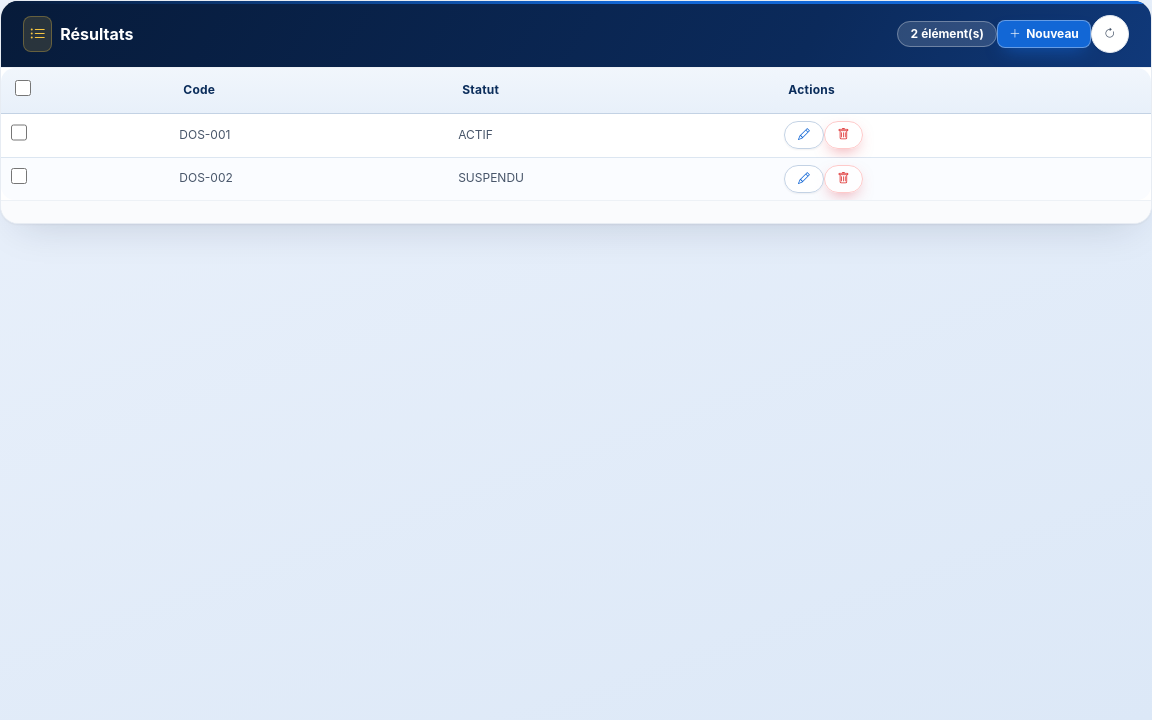
Test: gestion (CRUD) pilotée par le descripteur › un refus de dépendance (409) laisse la ligne en place et informe
The width and height of the screenshot is (1152, 720).
expect the text "DOS-001" is shown: met, box [170,114,449,158]
Step 1. Click the button named "Supprimer" in the row of "DOS-001" → click(844, 135), box [824,121,863,149]
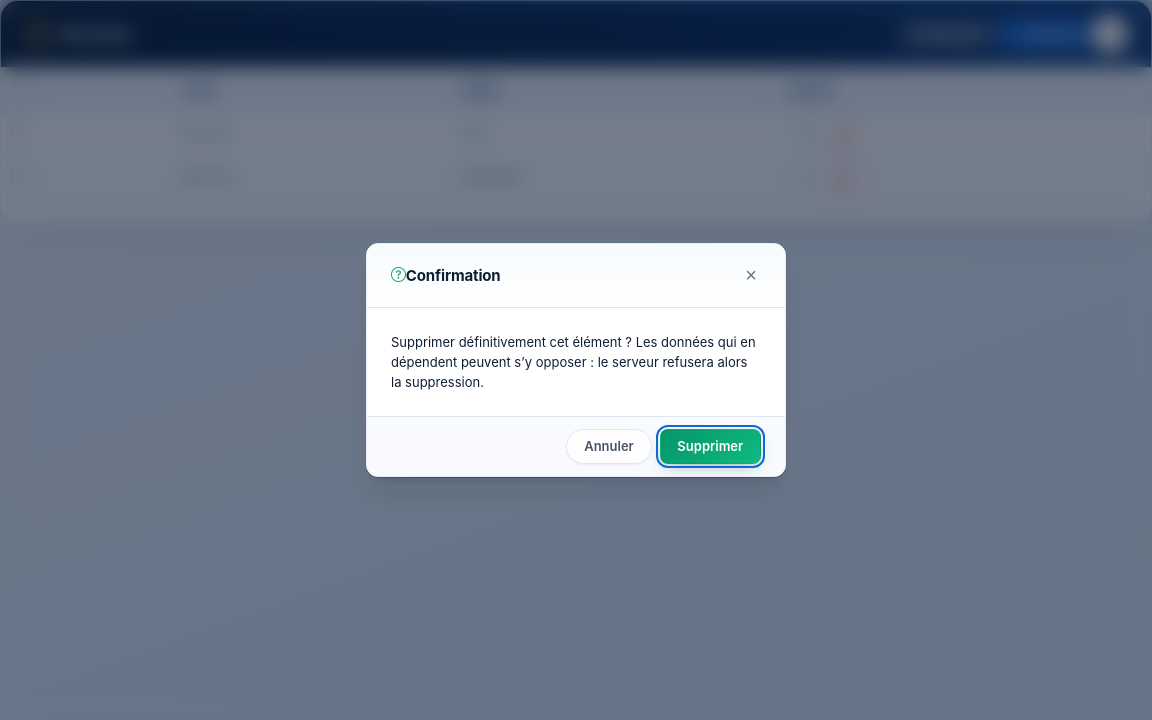
Step 2. Click the button "Supprimer" → click(710, 447), box [660,429,761,464]
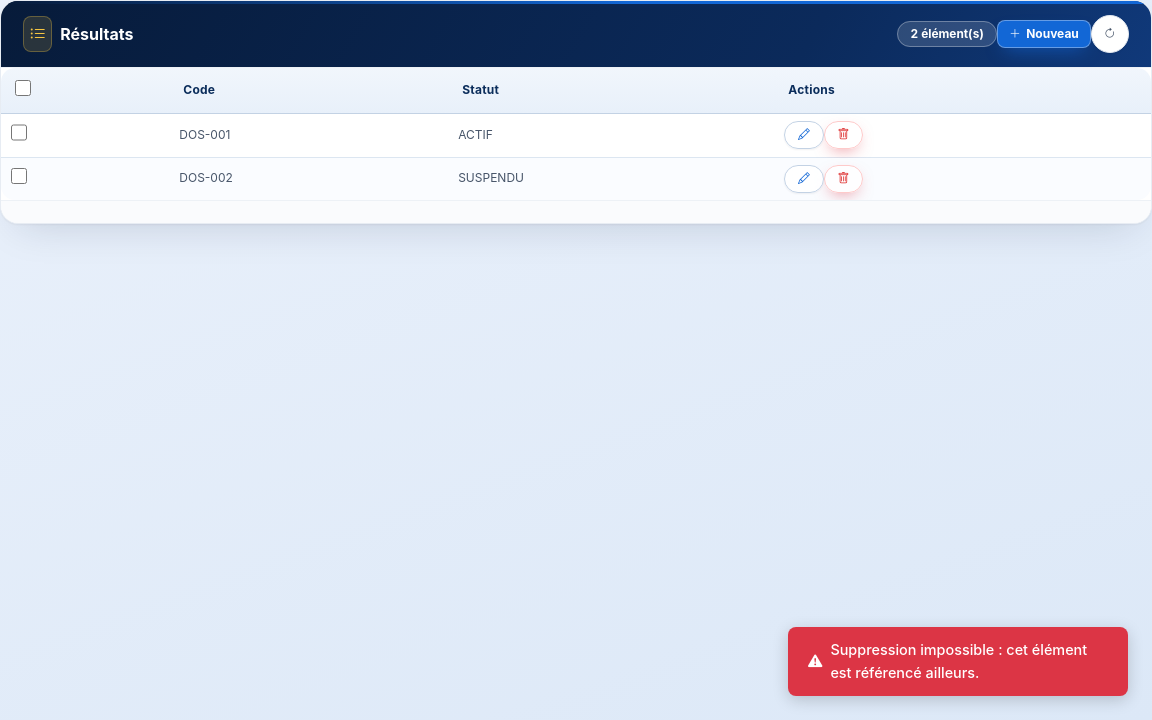
expect the text "DOS-001" is shown: met, box [170,114,449,158]
expect the text "Suppression impossible : cet élément est référencé ailleurs." is shown: met, box [788,627,1128,696]
